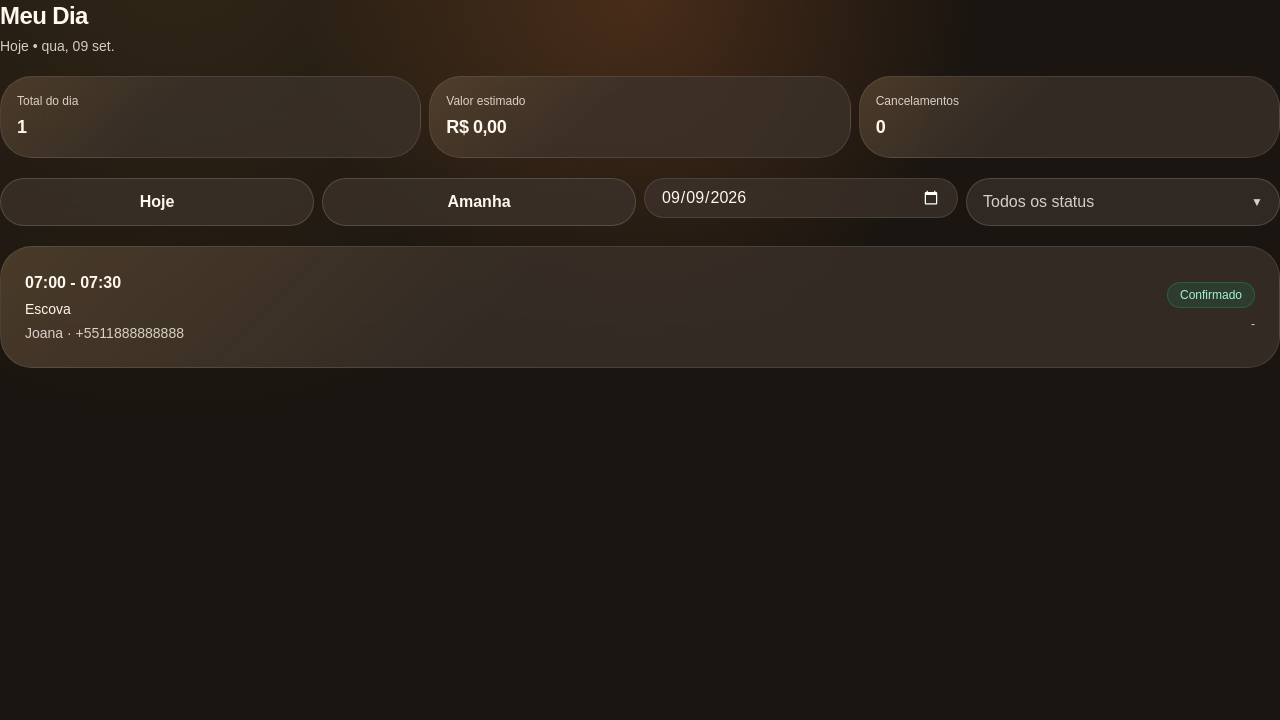
Test: MeuDiaPage › no detalhe, exibe os dados principais do item selecionado
The image size is (1280, 720).
Click the button with aria-label "Ver detalhes de Escova" at (73, 282), box [25,271,1255,343]
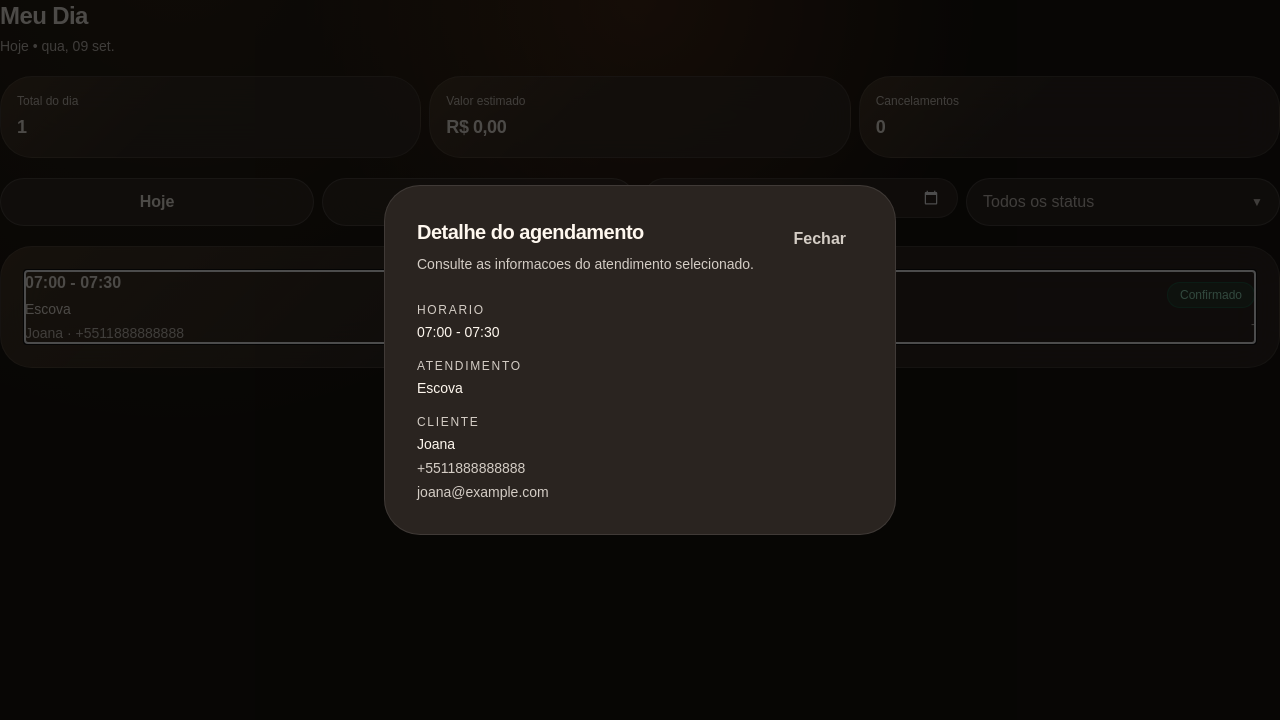
Check: the text "Joana" is shown, box [417,436,455,452]
Check: the text "+5511888888888" is shown, box [417,460,525,476]
Check: the text "joana@example.com" is shown, box [417,484,549,500]
